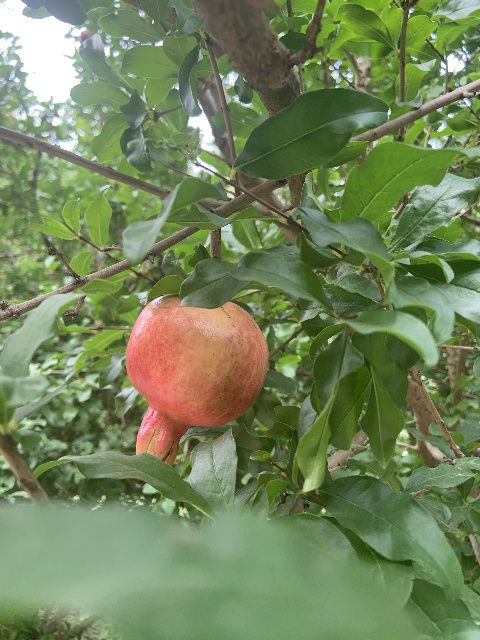ripe: (125, 296, 268, 466)
